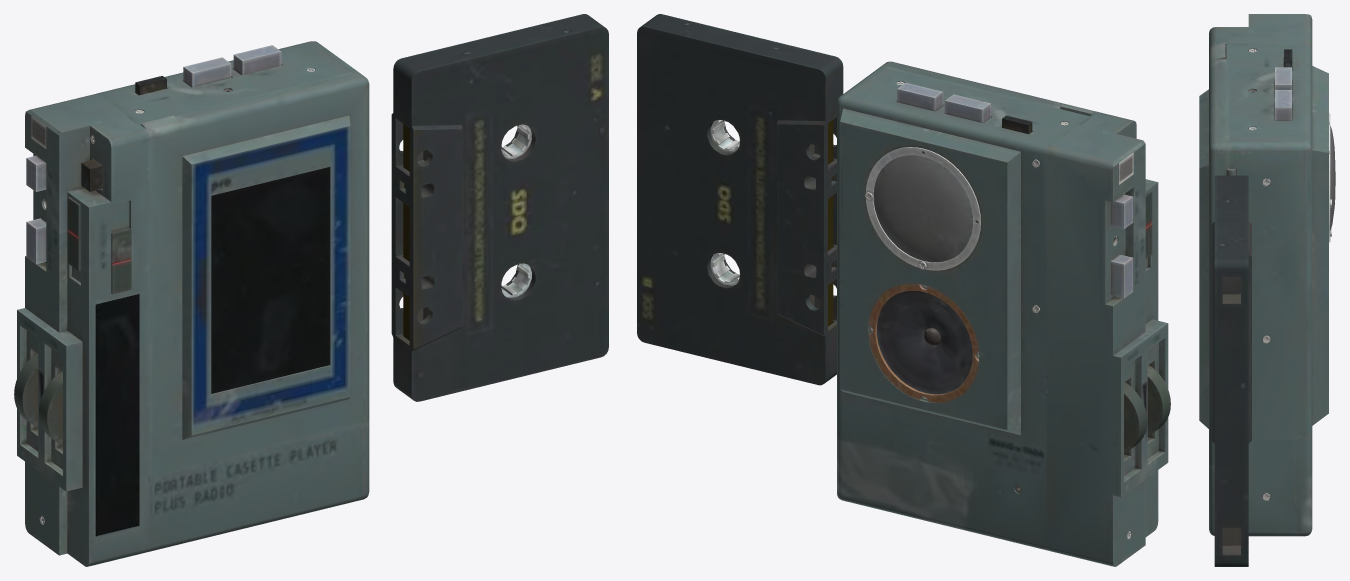
File: portable_cassette_player.glb
3 views of the same model, side by side, from view 1: azimuth 30°, elevation 25°; view 2: azimuth 150°, elevation 25°; view 3: azimuth 270°, elevation 25° (orthographic). The views are drawn at different scales.
Visible parts, largest first — view 1: portable_cassette_player_lid; view 2: portable_cassette_player_lid; view 3: portable_cassette_player_lid.
Part boxes in pixels (box(x1,y1,x2,y2)): portable_cassette_player_lid: box(14, 14, 608, 566); portable_cassette_player_lid: box(637, 14, 1170, 566); portable_cassette_player_lid: box(1199, 14, 1335, 566).
Bounding box in the file's own units: 0.1723 × 0.1303 × 0.0397.
2 materials, 2 textured.
